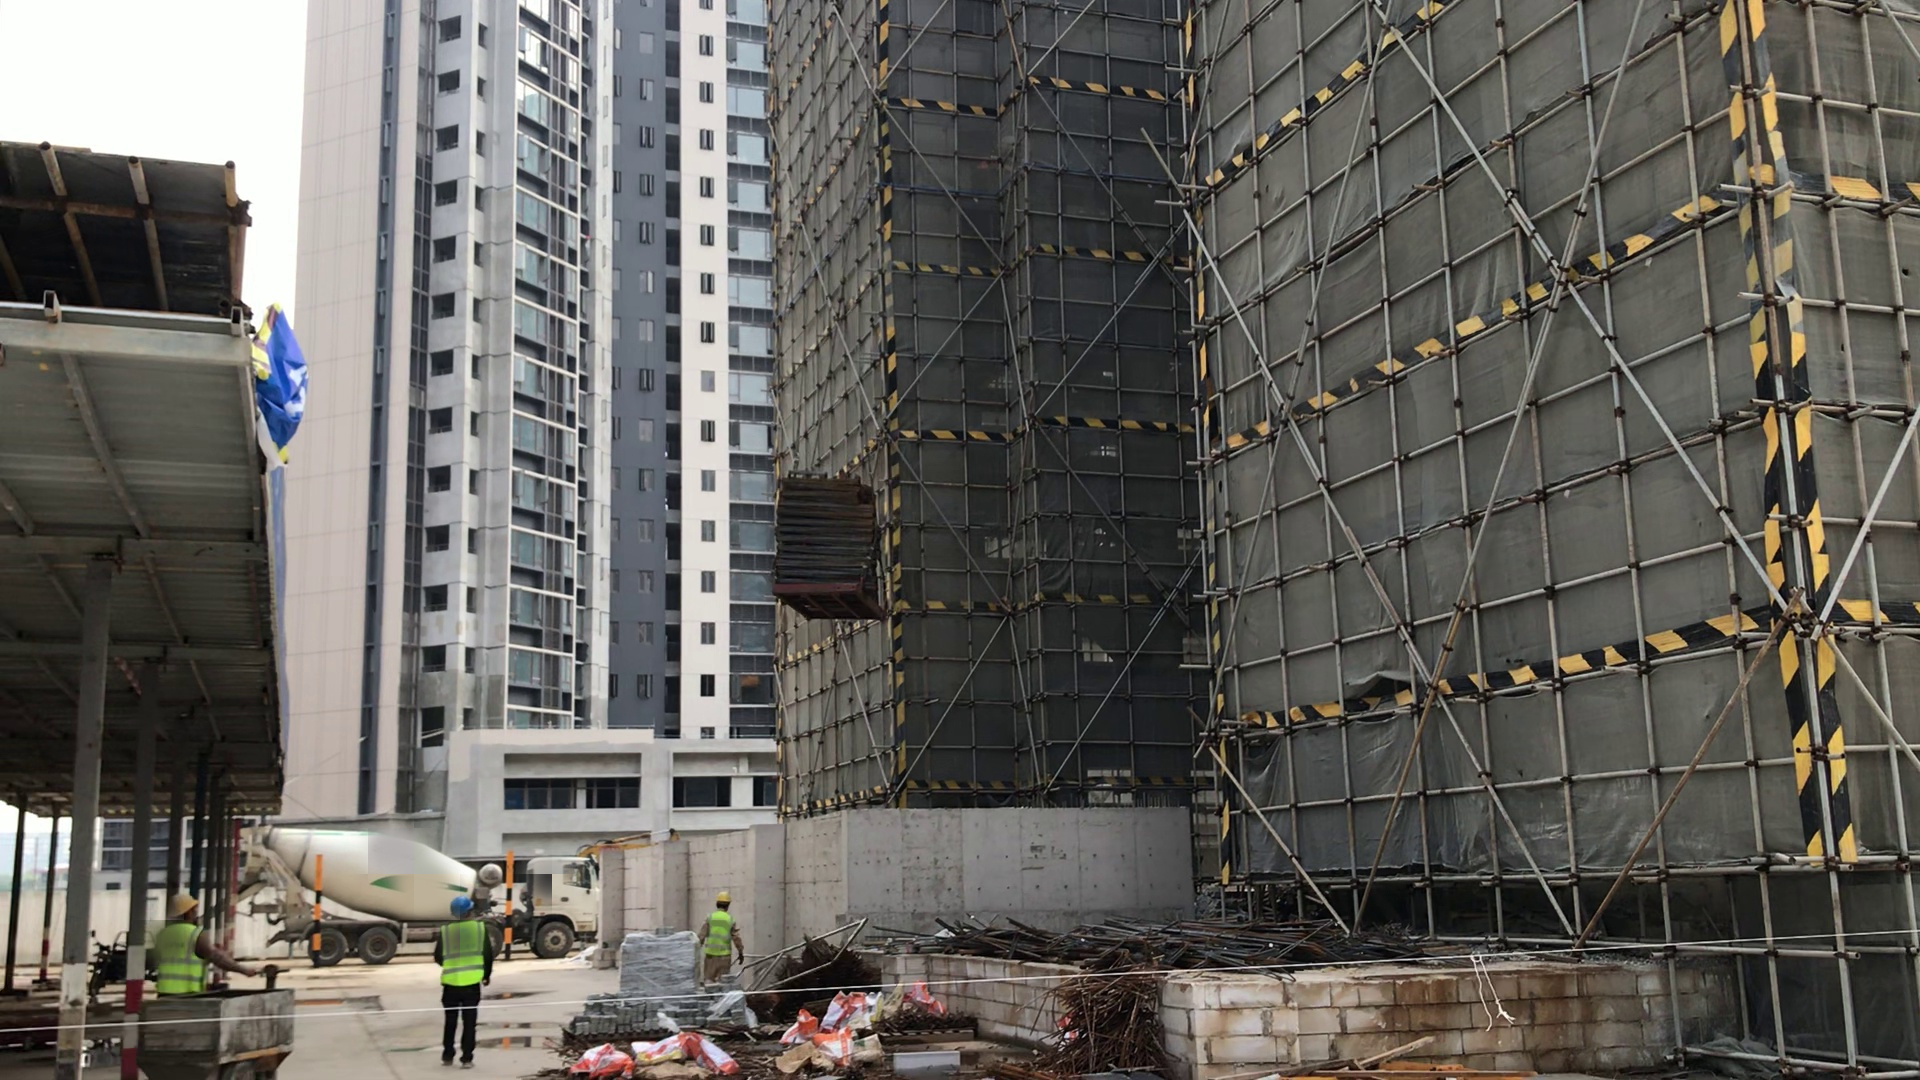helmet: (164, 890, 202, 924), (448, 894, 475, 920), (714, 889, 735, 904)
person: (150, 892, 268, 1009), (427, 892, 496, 1072), (685, 886, 757, 993)
vest: (154, 924, 214, 999), (436, 921, 487, 987), (701, 909, 737, 963)
